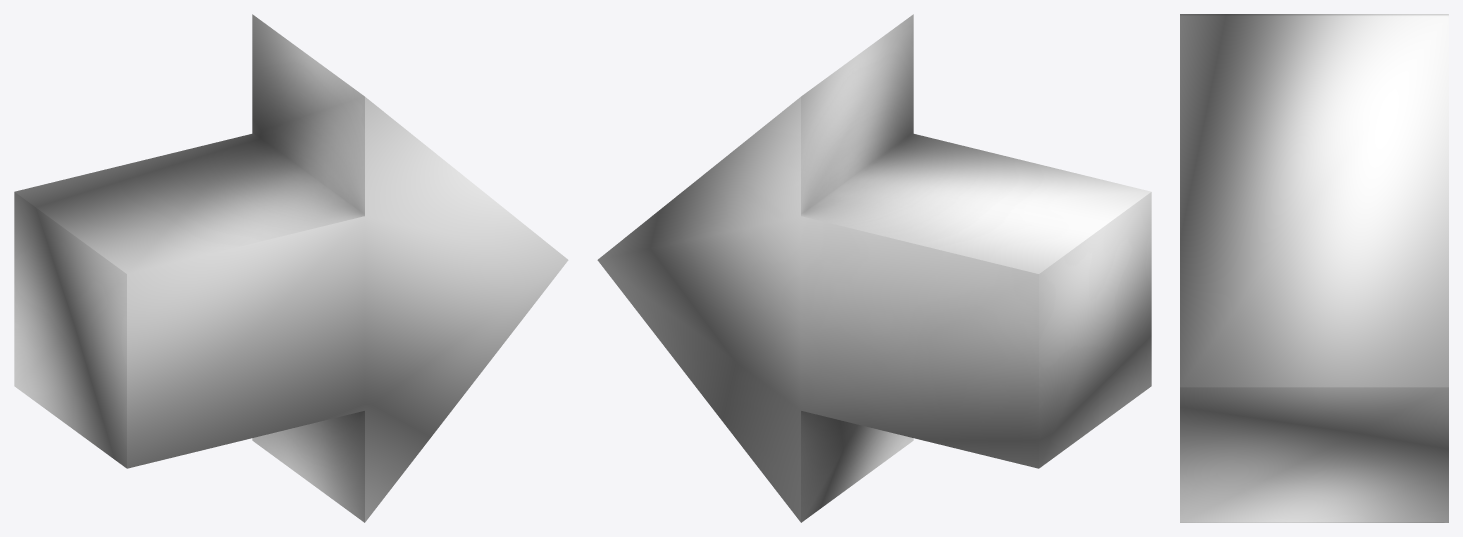
Rendered from Arrow17.fbx.
3 renders of one model, left to right at view 1: azimuth 30°, elevation 25°; view 2: azimuth 150°, elevation 25°; view 3: azimuth 270°, elevation 25°, orthographic. The views are drawn at different scales.
Visible parts, largest first — view 1: Arrow17; view 2: Arrow17; view 3: Arrow17.
Boxes of the visible parts, x1,y1,x2,y2 form: Arrow17: (14,14,568,522); Arrow17: (597,14,1151,522); Arrow17: (1180,14,1448,522).
Bounding box in the file's own units: 5.42 × 5 × 2.39.
